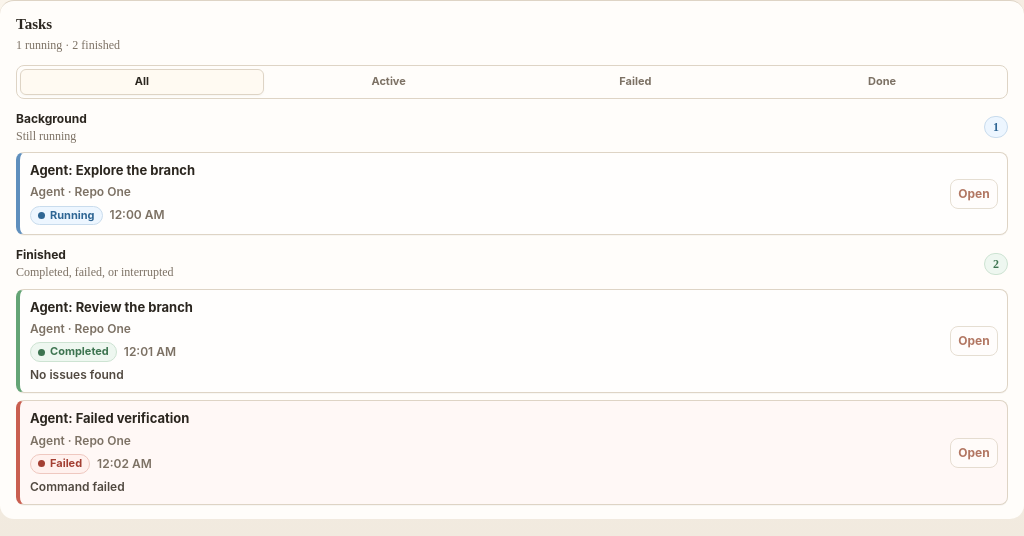
Test: TasksPanel › filters by failed and running task state
The image size is (1024, 536).
Click the button "Failed".
click(635, 82)  # box [514,69,757,95]
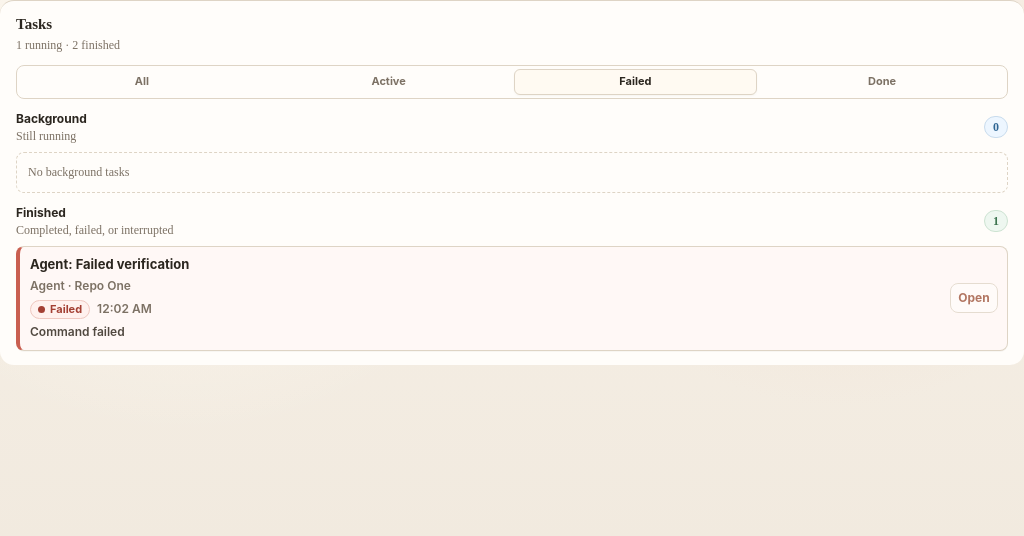
Check: the text "Agent: Failed verification" is shown, box [30,256,189,272]
Check: the button "Agent: Explore the branch" is gone
Check: the button "Agent: Review the branch" is gone
Click the button "Active".
click(389, 82)  # box [267,69,511,95]
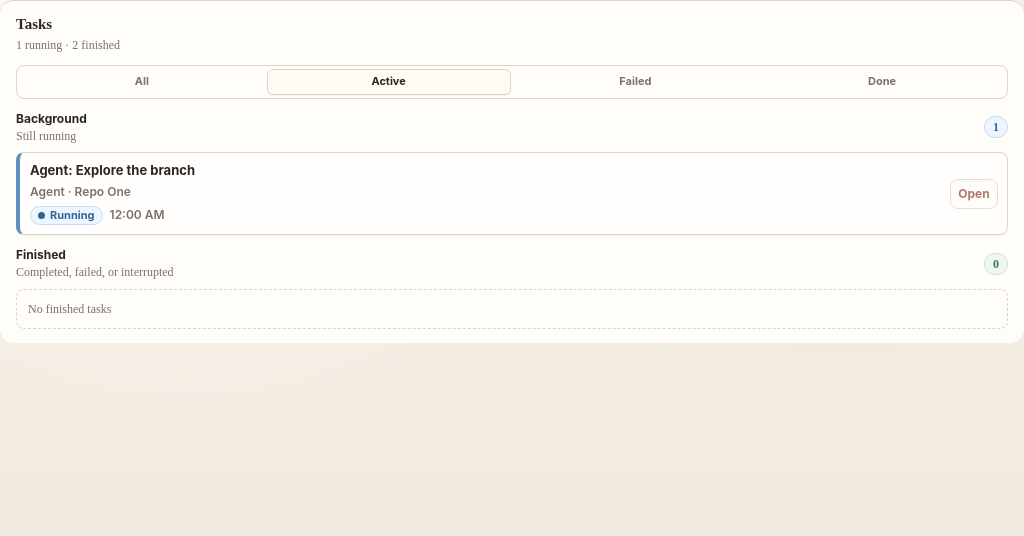
Check: the text "Agent: Explore the branch" is shown, box [30,162,195,178]
Check: the button "Agent: Failed verification" is gone
